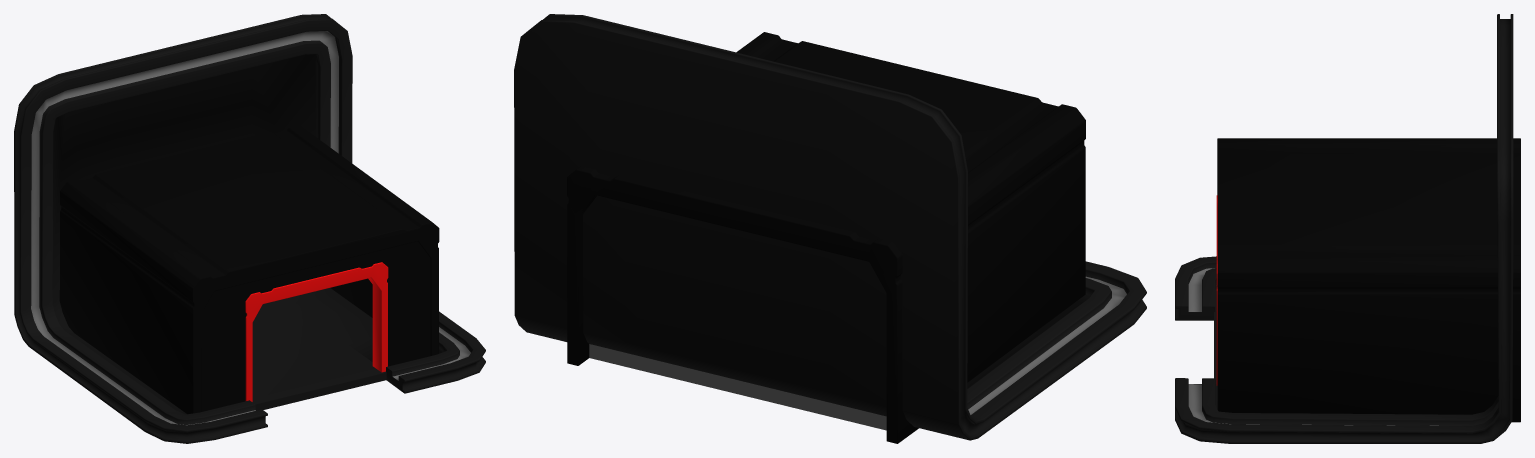
Rendered from DemoDisplay_Base04.FBX.
3 renders of one model, left to right at view 1: azimuth 30°, elevation 25°; view 2: azimuth 150°, elevation 25°; view 3: azimuth 270°, elevation 25°, orthographic. The views are drawn at different scales.
Visible parts, largest first — view 1: SM_BaseRoom; view 2: SM_BaseRoom; view 3: SM_BaseRoom.
Boxes of the visible parts, x1=… form: SM_BaseRoom: x1=14, y1=14, x2=485, y2=443; SM_BaseRoom: x1=514, y1=14, x2=1146, y2=443; SM_BaseRoom: x1=1175, y1=14, x2=1520, y2=443.
Bounding box in the file's own units: 620 × 519 × 451.
